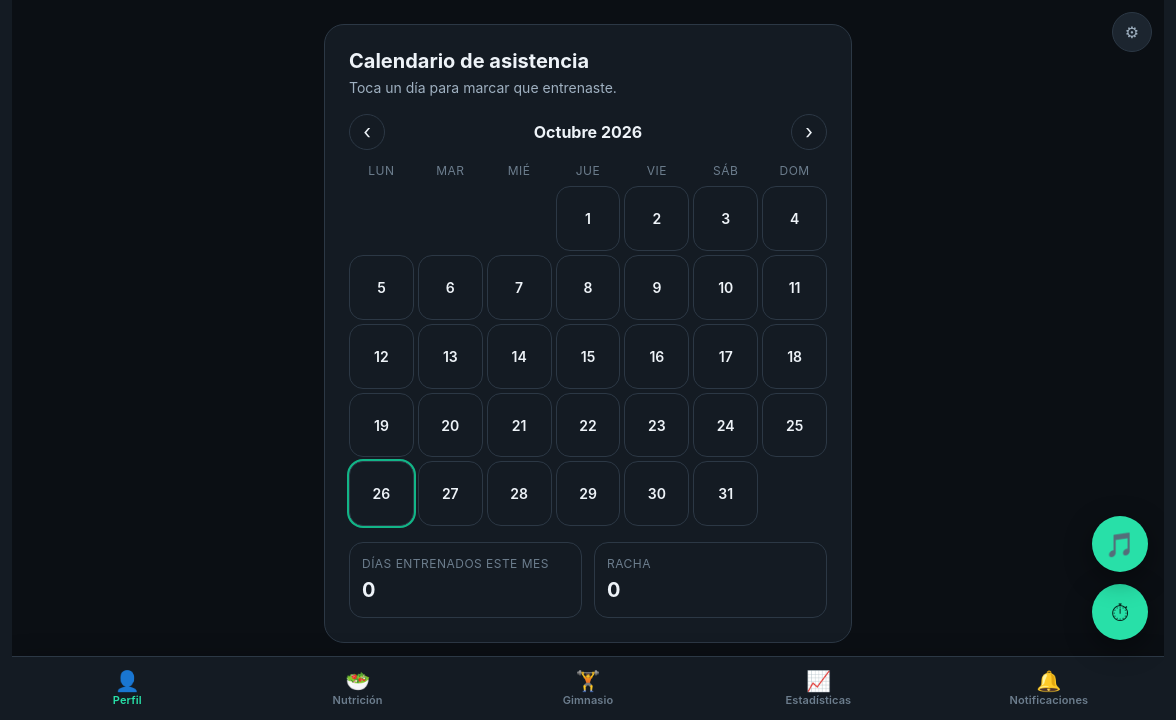
Test: Añadir al calendario del móvil (.ics) › el botón se deshabilita si ambos pesajes están desactivados
Click the button "🔔 Notificaciones" at (1049, 688), box [934, 657, 1164, 719]
(page scrolled)
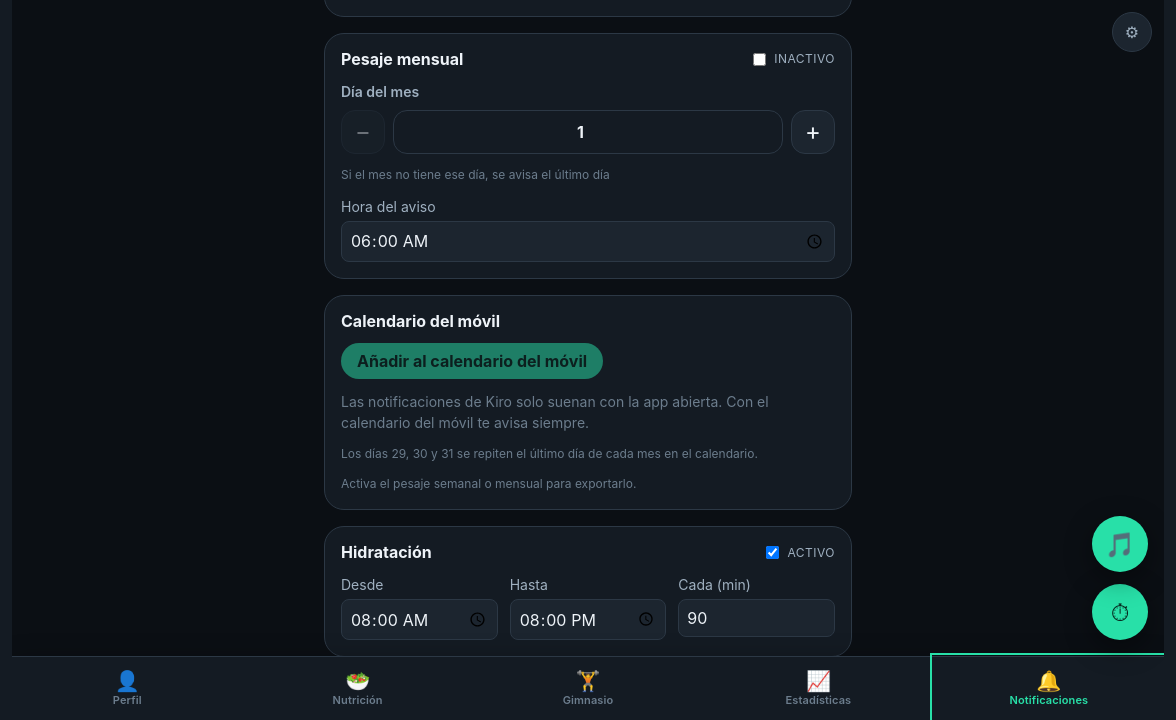
Now the button "Añadir al calendario del móvil" is disabled, box [341, 343, 603, 379]
